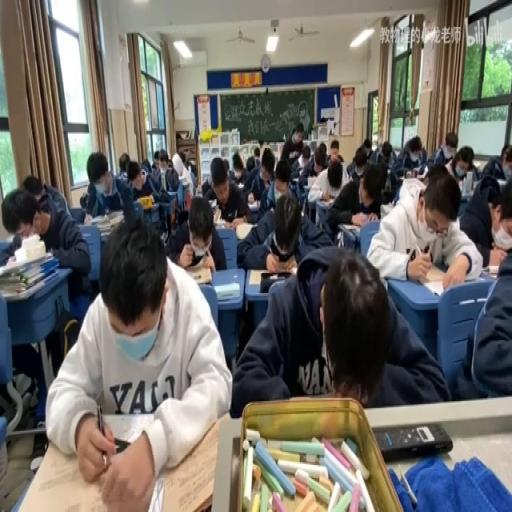calculator: (100, 411, 153, 447), (418, 267, 472, 296), (246, 267, 293, 286), (183, 267, 213, 286), (214, 282, 240, 300), (292, 179, 308, 202), (234, 222, 253, 240), (102, 209, 122, 226), (480, 263, 500, 279), (380, 200, 394, 218), (406, 168, 426, 180), (462, 170, 472, 194), (316, 195, 335, 206), (88, 213, 105, 225), (212, 205, 222, 222), (338, 222, 359, 230), (246, 200, 260, 212), (304, 176, 317, 188), (496, 176, 507, 190), (141, 201, 157, 209), (160, 170, 166, 190), (301, 196, 307, 216), (177, 175, 189, 183), (208, 198, 218, 206), (290, 176, 299, 184), (195, 186, 202, 195), (395, 174, 405, 180), (237, 181, 243, 189)
paper: (47, 212, 230, 509), (230, 242, 443, 414), (367, 162, 482, 290), (0, 179, 90, 302), (237, 179, 326, 266), (327, 158, 387, 240), (201, 158, 249, 227), (133, 155, 174, 235), (479, 171, 512, 270), (83, 151, 126, 219), (428, 131, 462, 173), (298, 142, 330, 184), (480, 142, 510, 184), (393, 135, 424, 175), (278, 121, 304, 166), (348, 136, 373, 175), (239, 162, 262, 202), (22, 173, 47, 205), (327, 138, 344, 165), (328, 161, 342, 189), (274, 165, 290, 189), (261, 150, 274, 176), (118, 151, 130, 175), (454, 158, 468, 178), (381, 140, 392, 164), (127, 165, 140, 185), (231, 158, 243, 179), (187, 160, 197, 184), (140, 158, 152, 176), (152, 148, 162, 168), (245, 155, 254, 171), (222, 156, 230, 174), (300, 150, 309, 164), (178, 151, 186, 166), (253, 145, 259, 161), (367, 149, 373, 161), (166, 158, 172, 168)
person: (374, 422, 451, 461), (110, 435, 130, 452)
